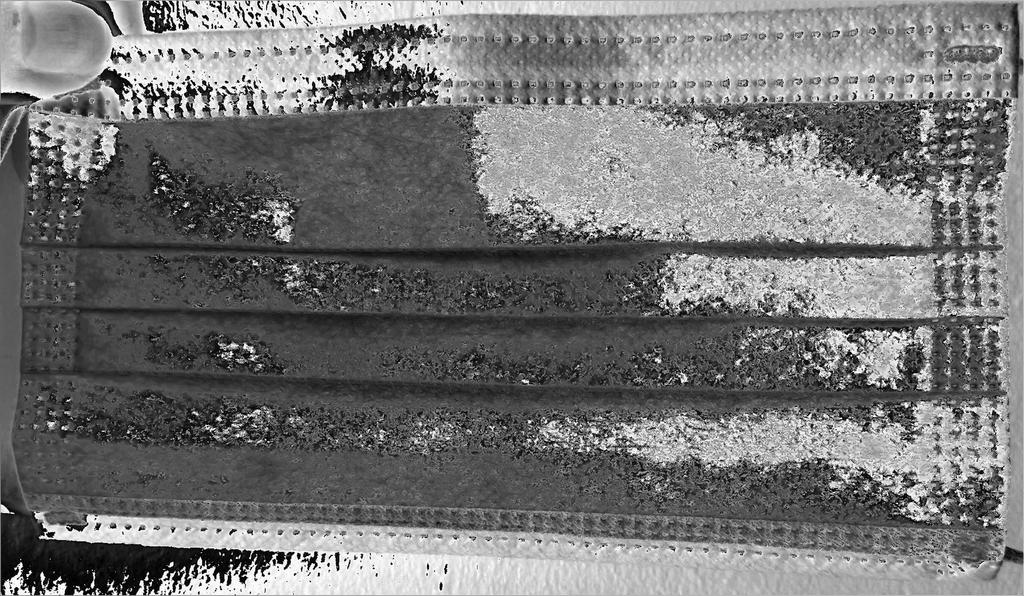Low GSM: (86, 105, 937, 523)
